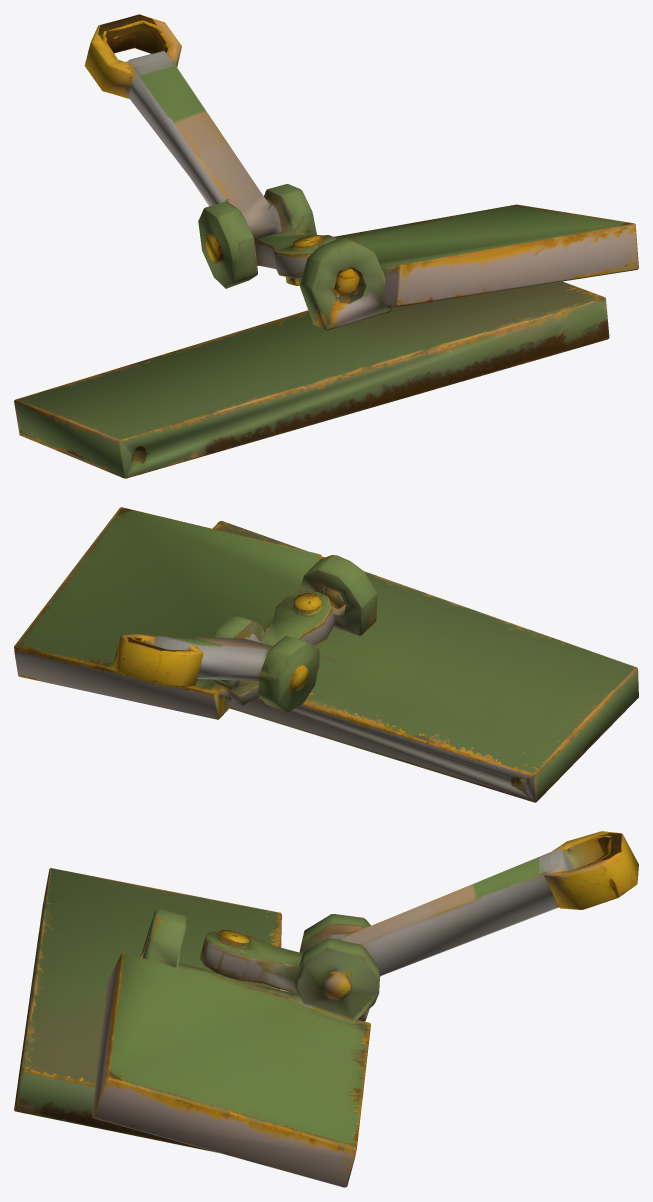
3 views of the same model, one above another, from view 1: azimuth 30°, elevation 25°; view 2: azimuth 150°, elevation 25°; view 3: azimuth 270°, elevation 25° (orthographic). The views are drawn at different scales.
Visible parts, largest first — view 1: material; view 2: material; view 3: material.
Boxes of the visible parts, x1,y1,x2,y2 form: material: (14, 14, 638, 478); material: (14, 507, 638, 802); material: (14, 831, 638, 1187).
Bounding box in the file's own units: 190 × 77.13 × 179.
1 material, 1 textured.
